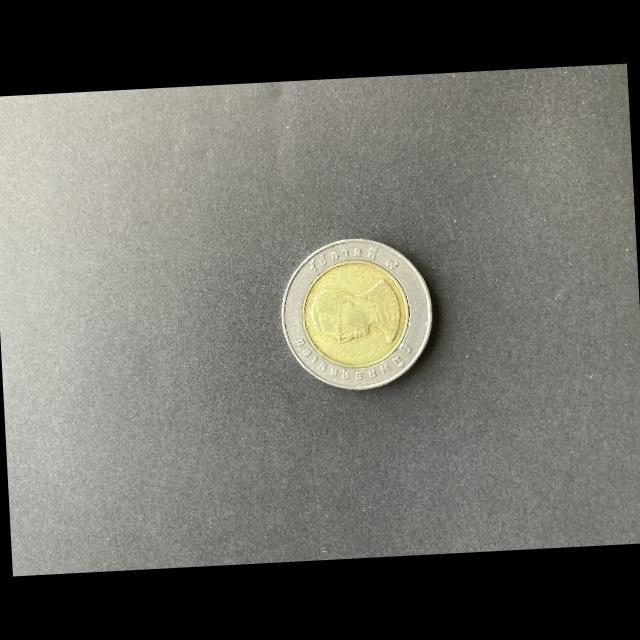10 Bath: (279, 235, 437, 399)
